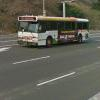Bus: (13, 12, 91, 47)
